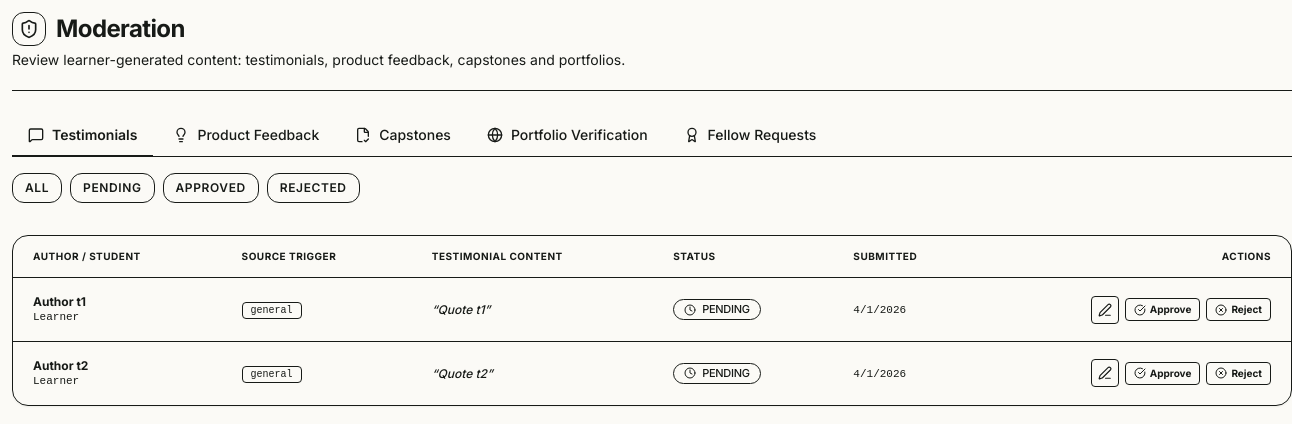
Scenario: moderation mutations refetch the server page › re-seeds the testimonial list when the server sends a fresh page
Click the button "Approve" in the row of "Author t1" at (1162, 310), box [1125, 298, 1200, 321]
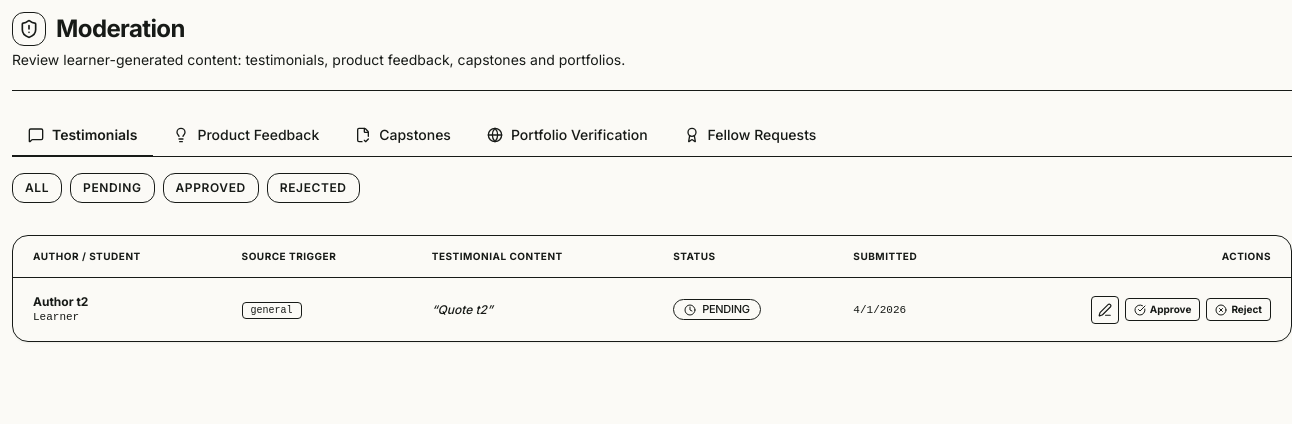
Expected: the text "Quote t2" is shown, [438, 302, 487, 317]
Now the text "Quote t1" is gone
